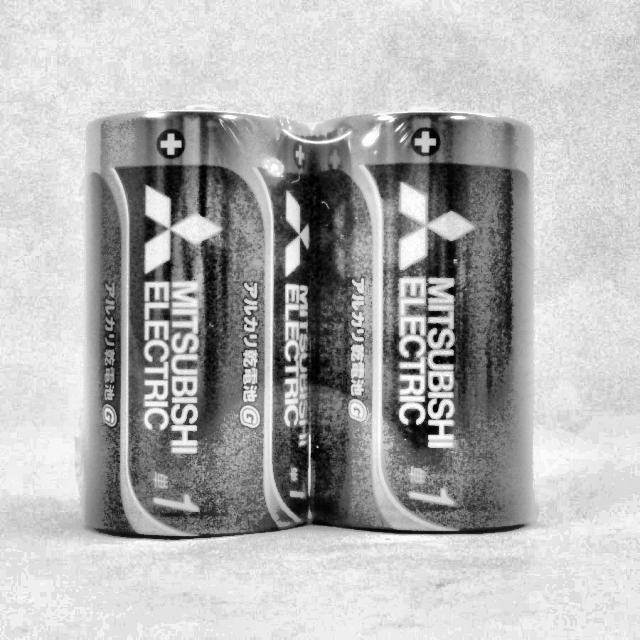drycell: (309, 102, 538, 536), (82, 105, 310, 540)
